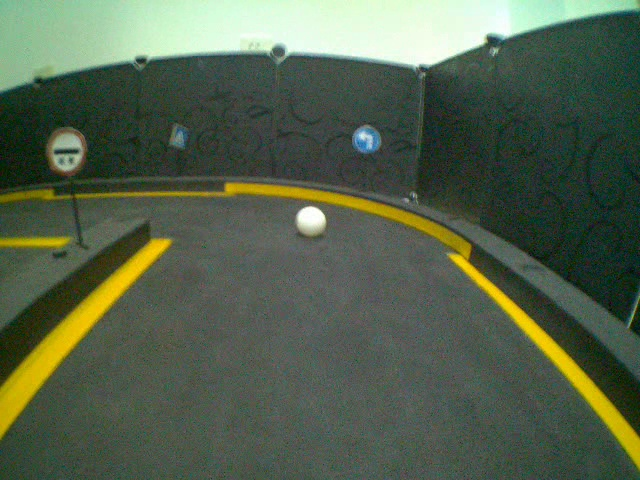ball: (295, 205, 328, 239)
